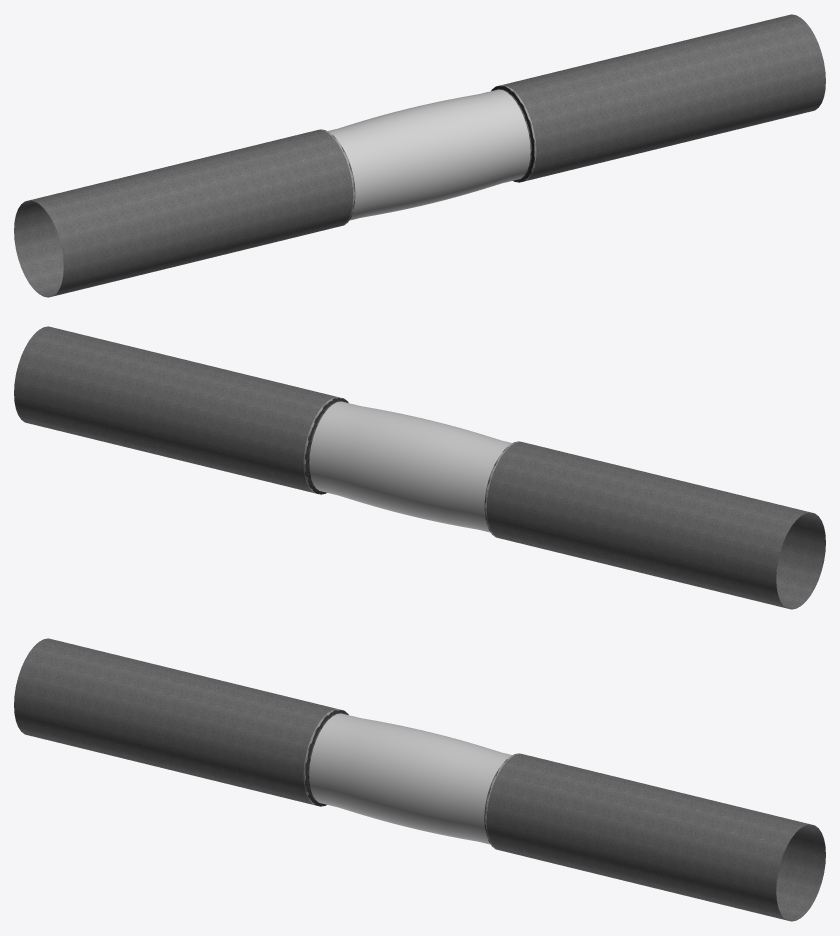
The picture shows the model from 3 angles, top to bottom: view 1: azimuth 30°, elevation 25°; view 2: azimuth 150°, elevation 25°; view 3: azimuth 330°, elevation 25°; orthographic projection.
Visible parts, largest first — view 1: Cylinder_Sidewalk, Cylinder_Road, Cylinder_Curb; view 2: Cylinder_Sidewalk, Cylinder_Road, Cylinder_Curb; view 3: Cylinder_Sidewalk, Cylinder_Road, Cylinder_Curb.
Part boxes in pixels (<box>): Cylinder_Sidewalk: <box>14,14,825,297</box>; Cylinder_Road: <box>327,89,530,220</box>; Cylinder_Curb: <box>319,85,536,225</box>; Cylinder_Sidewalk: <box>14,326,825,609</box>; Cylinder_Road: <box>309,401,512,532</box>; Cylinder_Curb: <box>303,397,520,537</box>; Cylinder_Sidewalk: <box>14,638,825,921</box>; Cylinder_Road: <box>309,713,512,844</box>; Cylinder_Curb: <box>303,709,520,849</box>.
Size of the model in its own units: 25.82 by 2.92 by 2.92.
3 materials, 2 textured.
